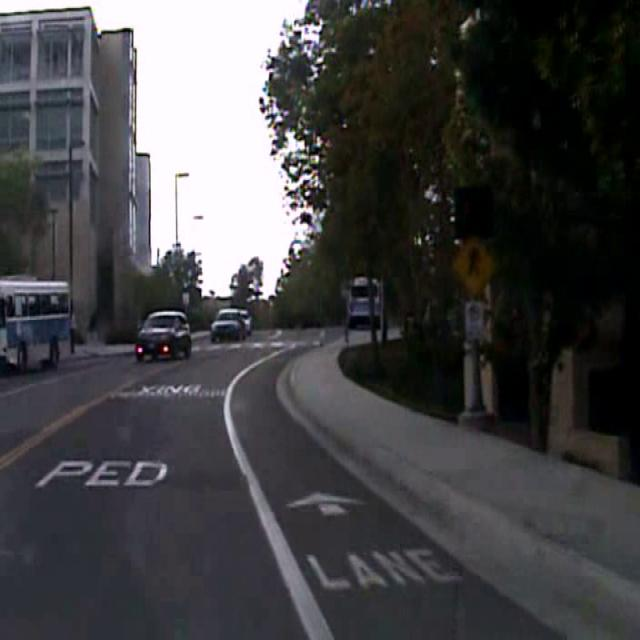pedestrianCrossing: (452, 232, 496, 299)
